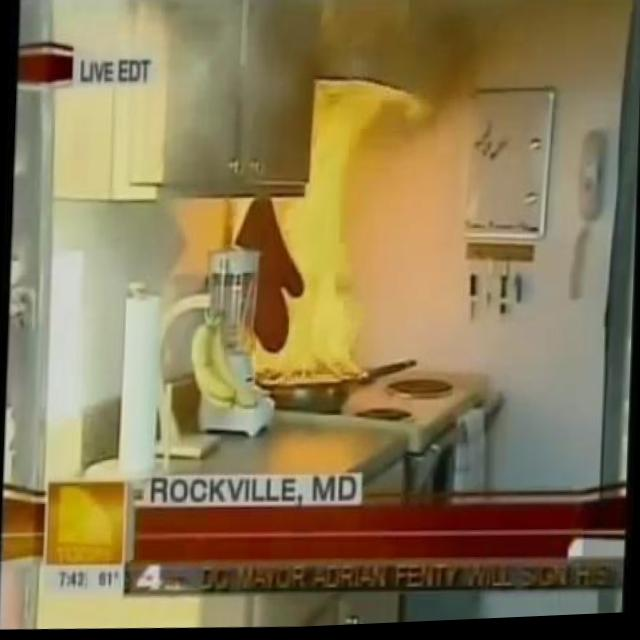fire: (254, 89, 402, 397)
